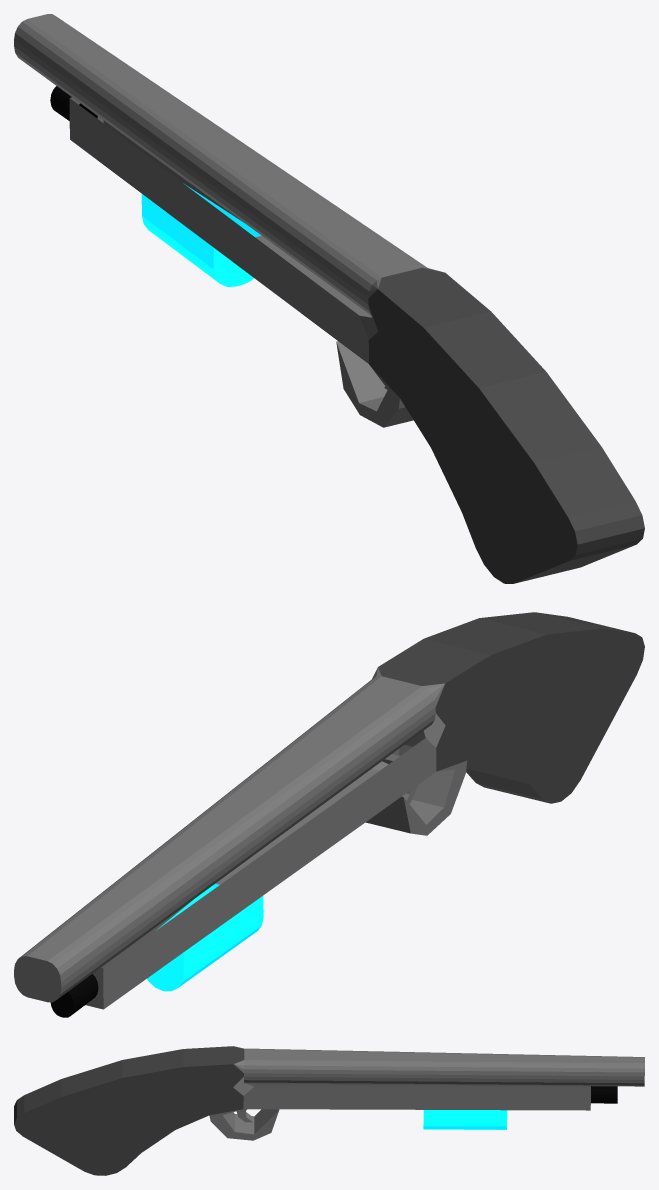
File: shotgun.fbx
3 renders of one model, top to bottom at view 1: azimuth 30°, elevation 25°; view 2: azimuth 150°, elevation 25°; view 3: azimuth 270°, elevation 25°, orthographic. The views are drawn at different scales.
Parts seen in each view (by area): view 1: Holder, Plane, Battery; view 2: Plane, Holder, Battery, BottomBarrel; view 3: Plane, Holder, Battery, BottomBarrel.
Boxes of the visible parts, box(x1,y1,x2,y2) form: Holder: box(368, 267, 644, 583); Plane: box(14, 14, 441, 427); Battery: box(141, 184, 261, 286); Plane: box(14, 667, 467, 1009); Holder: box(378, 612, 644, 803); Battery: box(147, 883, 263, 991); BottomBarrel: box(50, 974, 98, 1017); Plane: box(209, 1046, 644, 1140); Holder: box(14, 1046, 244, 1175); Battery: box(423, 1110, 507, 1129); BottomBarrel: box(591, 1086, 617, 1103).
Bounding box in the file's own units: 16 × 46.35 × 236.
